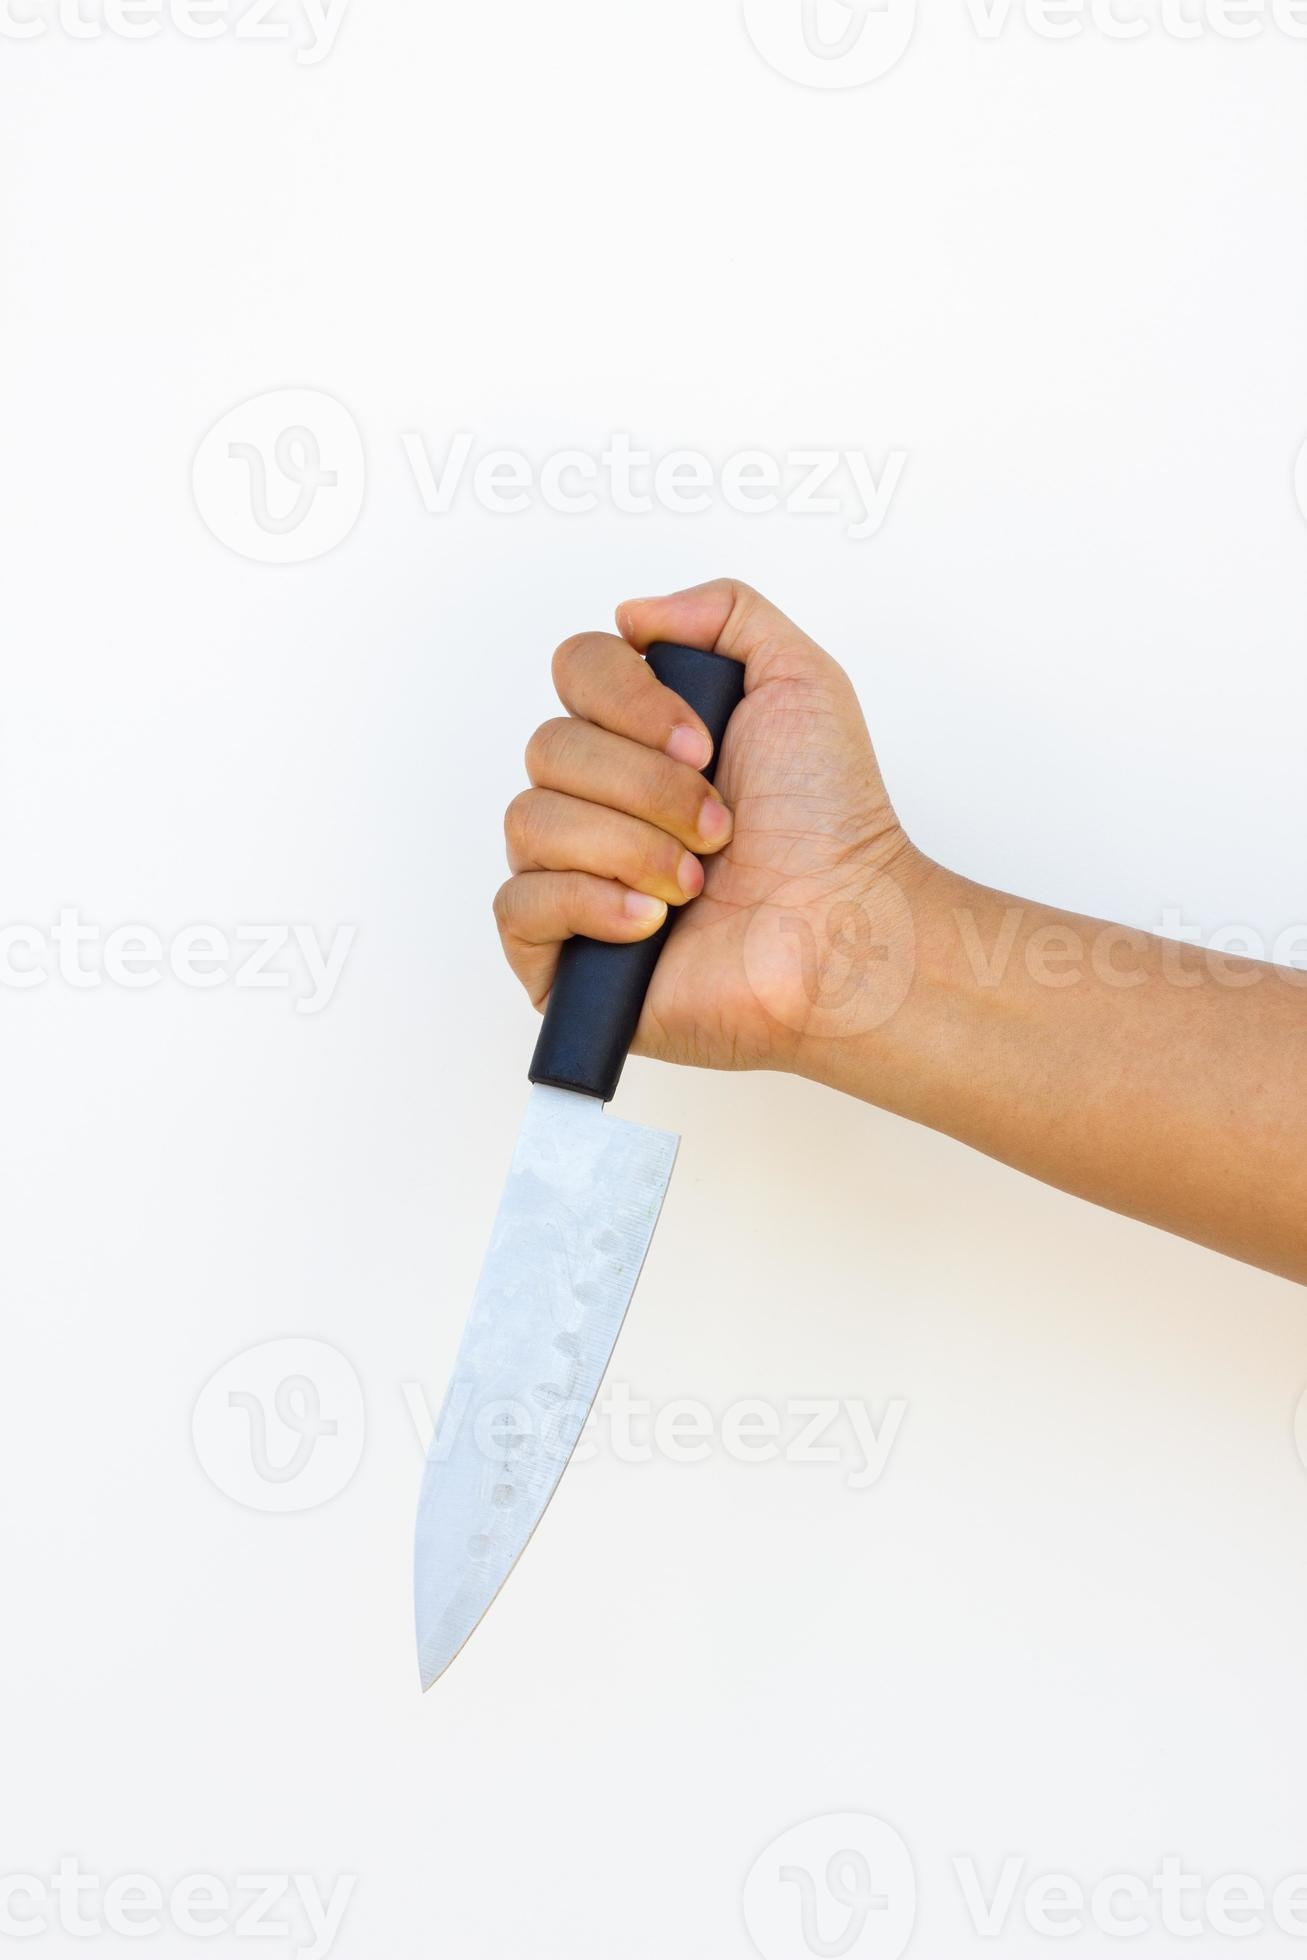knife: (408, 637, 754, 1696)
